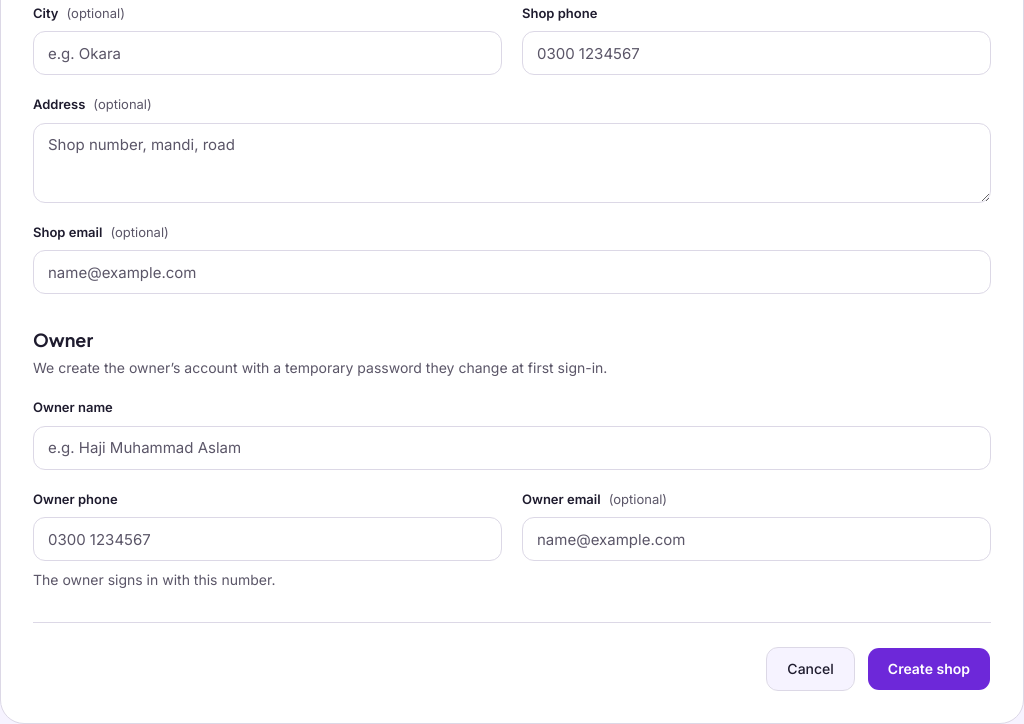
Scenario: CreateShopForm › shows field errors and sends nothing when the form is invalid
(page scrolled)
Click the button "Create shop".
click(929, 669)  # box [867,647,991,691]
(page scrolled)
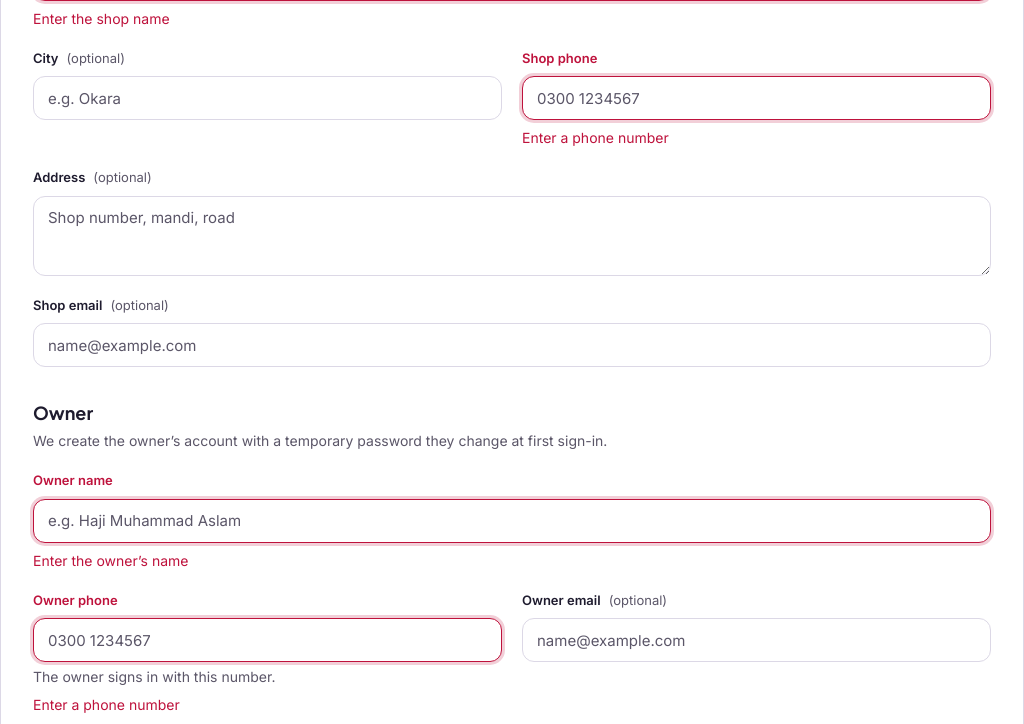
Result: the text "Enter the shop name" is shown at [33,10,170,26]
Result: the text "Enter the owner’s name" is shown at [33,552,188,568]
Result: the text "Enter a phone number" is shown 2 times at [522,129,669,146]; [33,696,180,713]
